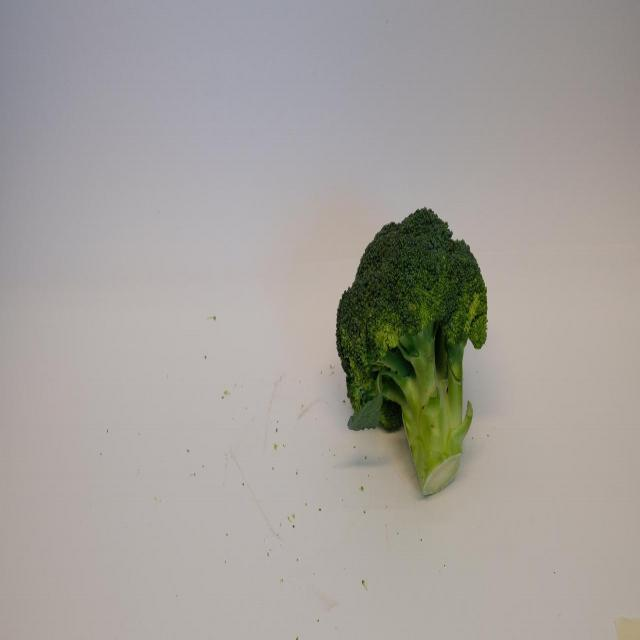broccoli: (340, 208, 493, 503)
